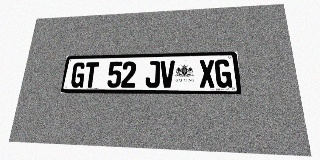2: (121, 61, 136, 88)
5: (107, 61, 122, 88)
G: (214, 59, 232, 88), (70, 62, 86, 88)
J: (145, 61, 160, 88)
T: (83, 62, 99, 88)
V: (160, 60, 175, 88)
X: (199, 60, 216, 88)
